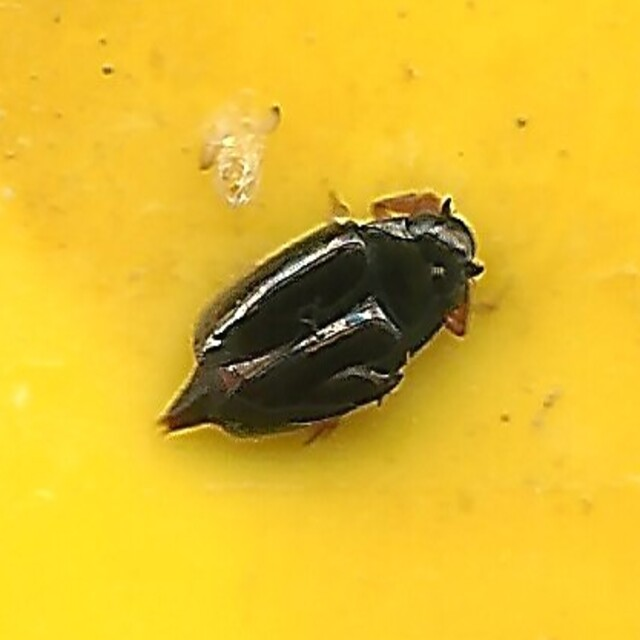Coleoptera: (153, 192, 487, 448)
